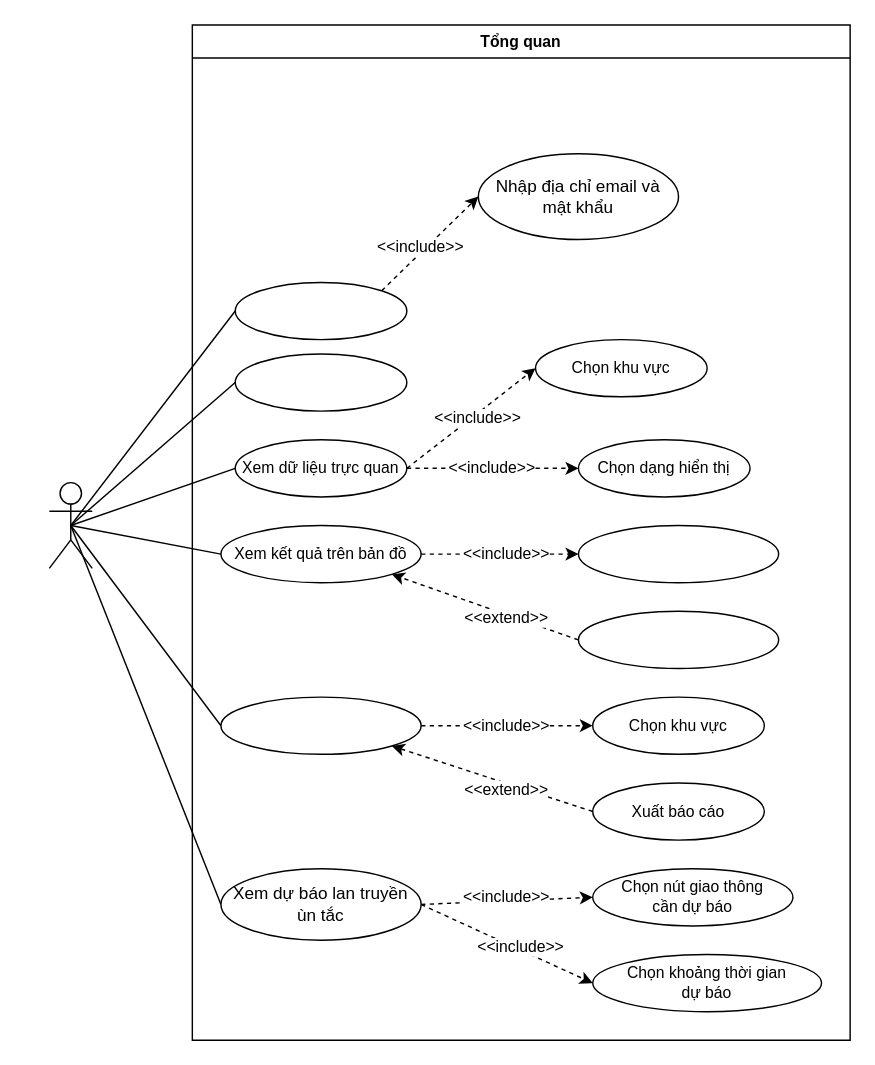
The diagram is 875 pixels wide and 1065 high, and some of its shapes have lost their labels. The centre of each missing label's shape, as x and y in pixels:
"Chọn khu vực muốn xem" goes at (678,553).
"Người dùng" goes at (70,524).
"Tương tác với bản đồ" goes at (678,639).
"Xem kết quả phân tích" goes at (320,725).
"Đăng nhập" goes at (320,310).
"Đăng xuất" goes at (320,381).
